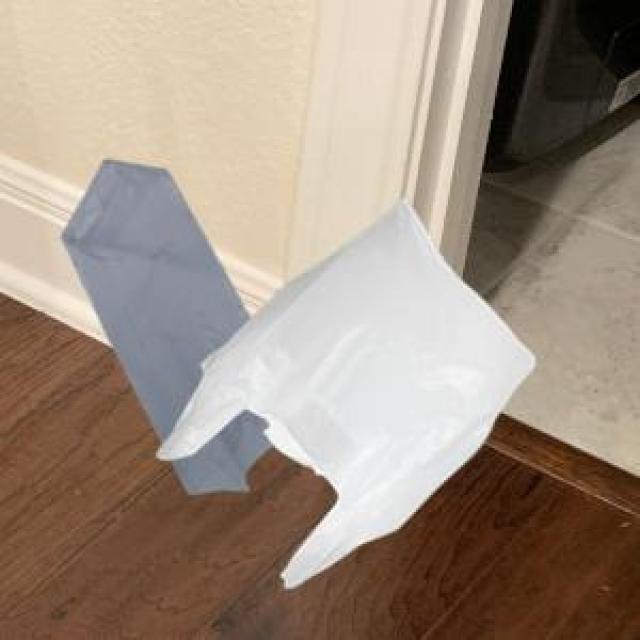waste: (62, 160, 535, 587)
